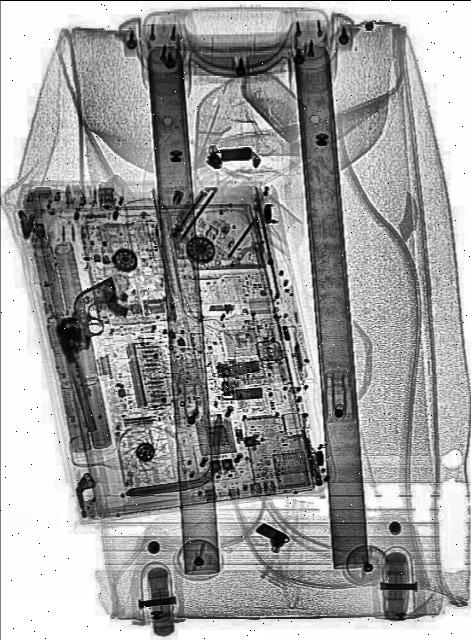Gun: (48, 275, 149, 433)
